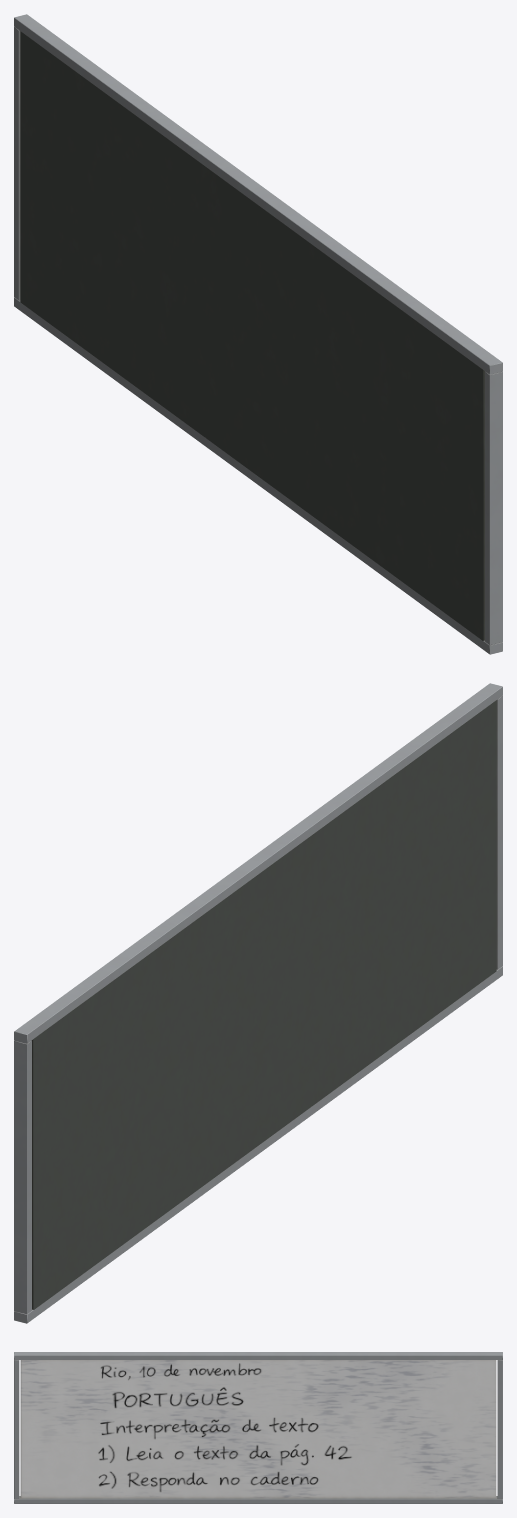
The model's file is quadro_branco_sujo_realista.glb.
3 renders of one model, top to bottom at view 1: azimuth 30°, elevation 25°; view 2: azimuth 150°, elevation 25°; view 3: azimuth 270°, elevation 25°, orthographic. The views are drawn at different scales.
Visible parts, largest first — view 1: Quadro_branco_PBR; view 2: Quadro_branco_PBR; view 3: Quadro_branco_PBR.
Part boxes in pixels (x1,y1,x2,y2): Quadro_branco_PBR: (14,14,502,654); Quadro_branco_PBR: (14,683,502,1323); Quadro_branco_PBR: (14,1352,502,1503).
Bounding box in the file's own units: 0.06 × 1.24 × 3.7.
1 material, 1 textured.
